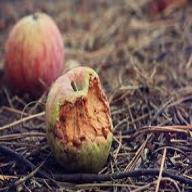apple: (44, 74, 116, 170), (6, 18, 66, 90)
